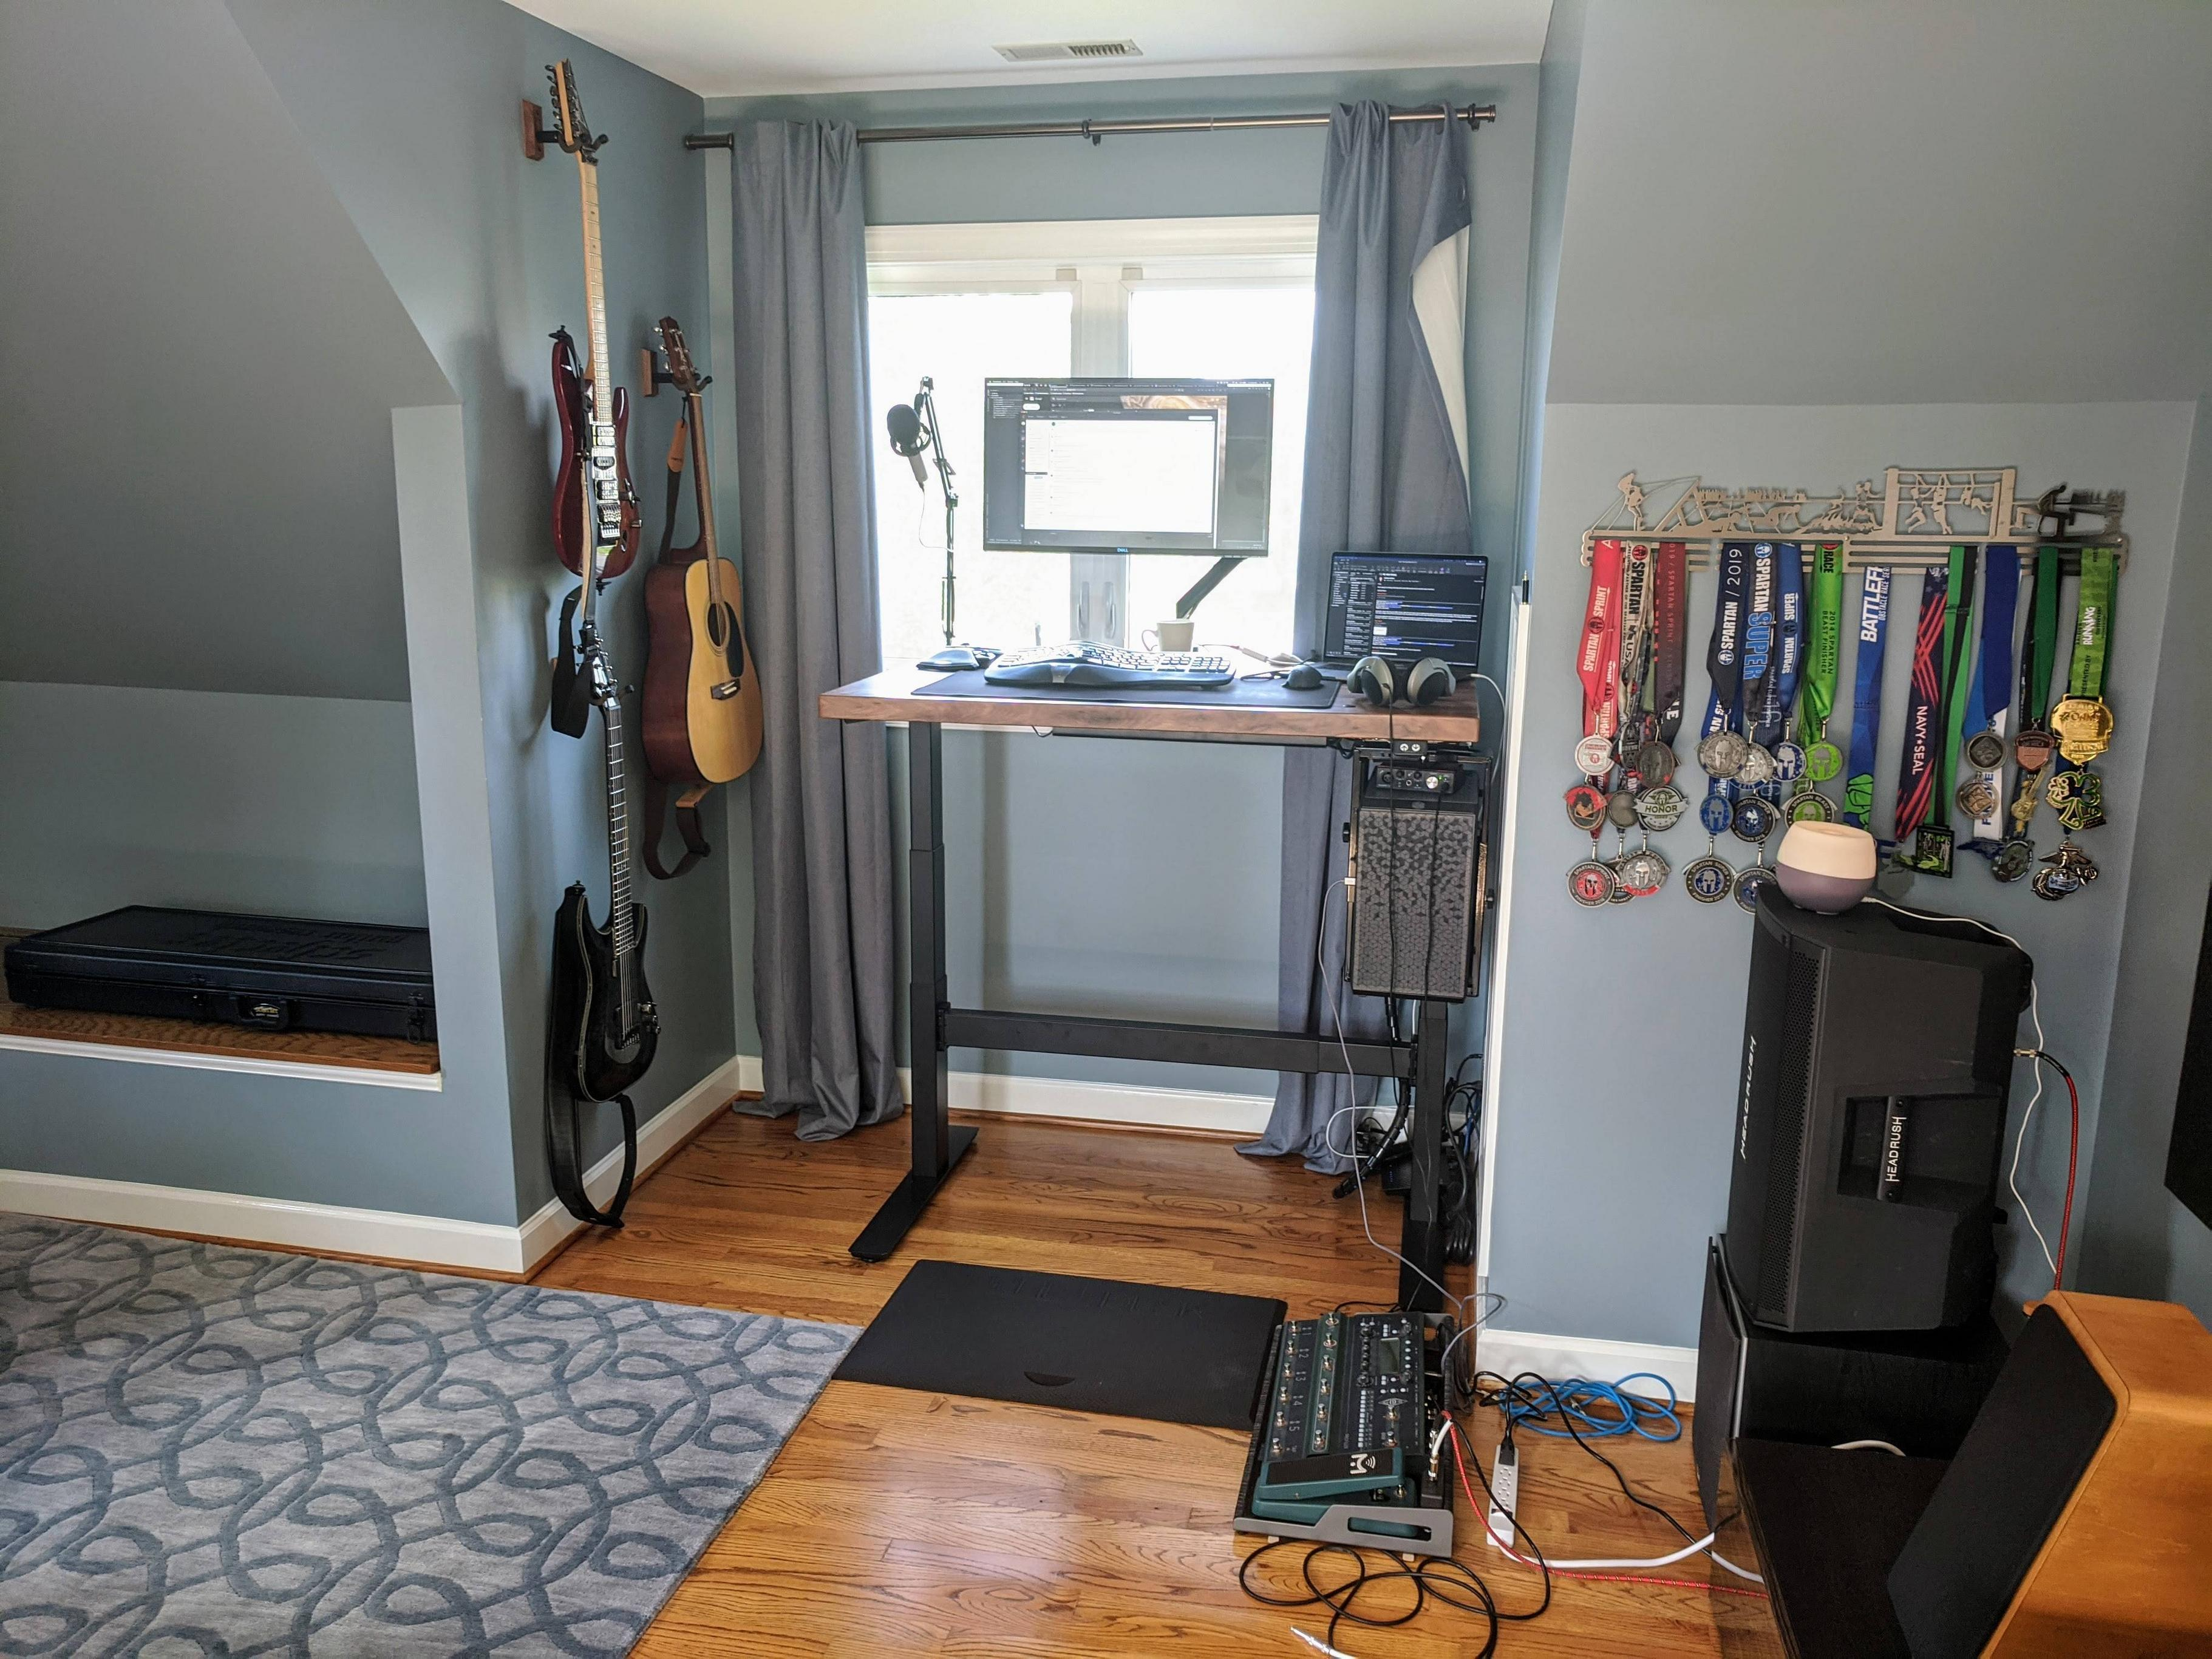Decoration (Generic): (1561, 465, 2137, 911)
Desk (Standing): (822, 655, 1482, 1316)
External Microphone (with Boom Arm): (883, 373, 995, 673)
External Speakers (Generic): (1730, 901, 2040, 1342), (1879, 1286, 2210, 1659)
Headphones: (1348, 653, 1456, 711)
Keyboard (Ergonomic): (982, 638, 1235, 690)
Laptop (OSX): (1317, 549, 1493, 690)
Monitor (Landscape): (982, 375, 1277, 561)
Mouse (Generic): (1280, 667, 1324, 694)
Mousepad (Gaming): (918, 662, 1346, 716)
Mug: (1143, 620, 1193, 659)
Musical Instrument (Electric Guitar): (545, 627, 658, 1227), (545, 59, 644, 586)
Musical Instrument (Guitar): (641, 315, 766, 781)
Power Strip: (1487, 1443, 1522, 1549)
